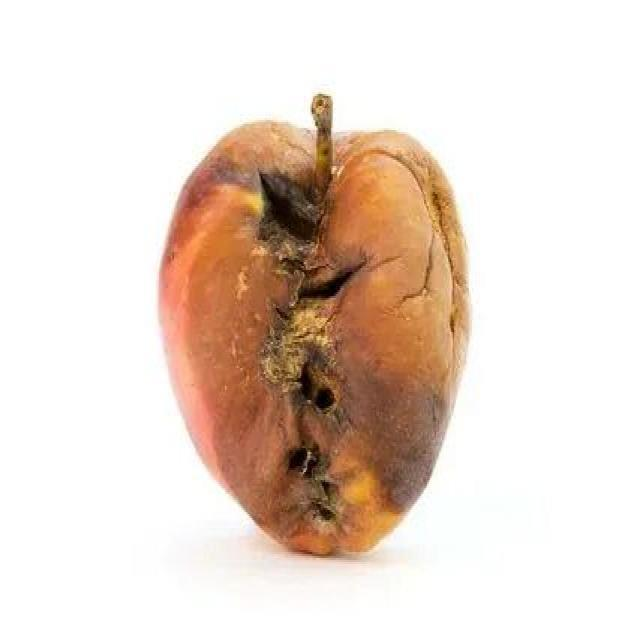Rotten: (150, 116, 477, 546)
